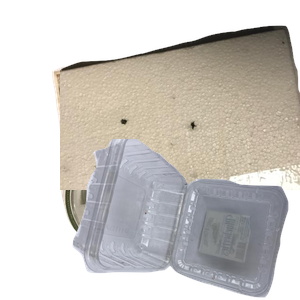glass: (59, 135, 254, 300)
paper: (49, 51, 235, 212)
plastic: (70, 139, 300, 300)
trash: (60, 23, 300, 203)
